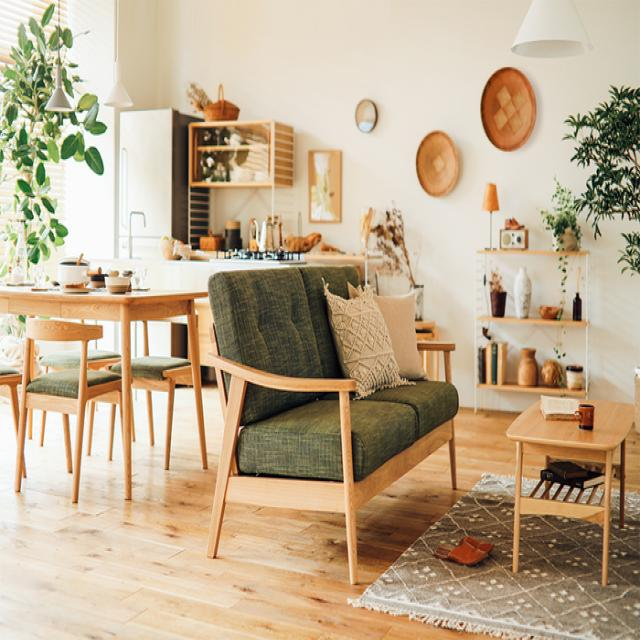natural chair: (14, 317, 118, 504)
natural desk: (1, 272, 208, 518), (506, 390, 637, 583)
natural shelf: (472, 245, 588, 407)
natural sofa: (199, 260, 462, 595)
